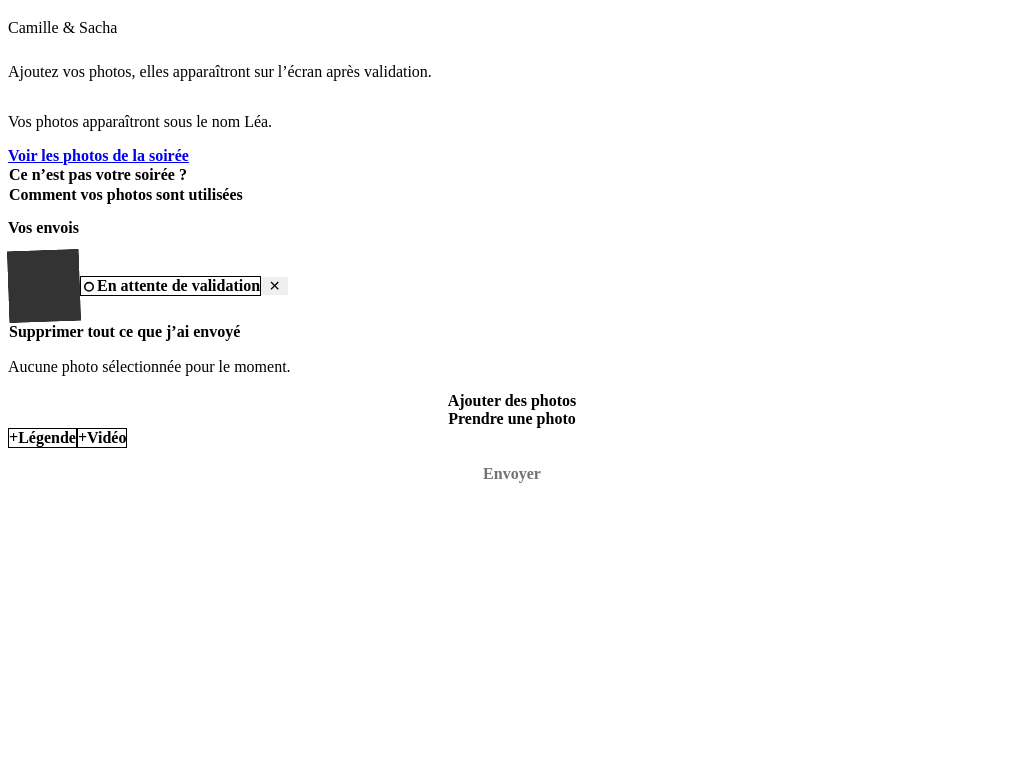
GuestUploadPage › keeps the list when a deletion is refused, and says why
The image size is (1024, 768).
Click the button named "Supprimer la photo 1" at [275, 286], box left=261, top=277, right=288, bottom=295
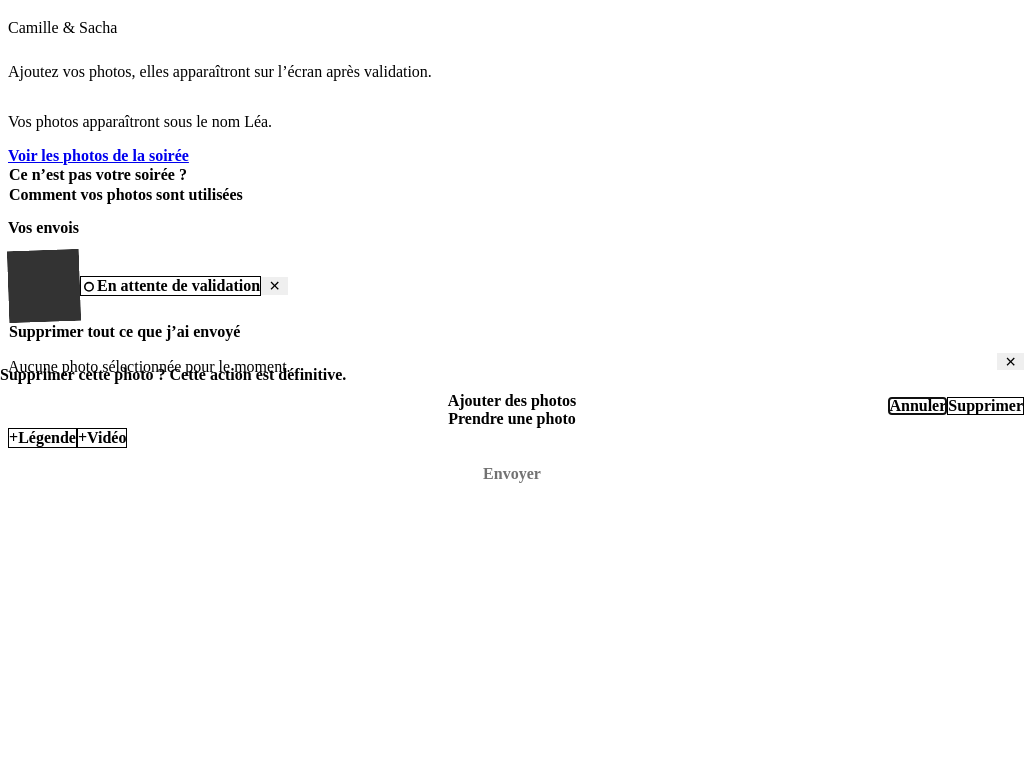
Click the button "Supprimer" at [986, 406], box left=947, top=397, right=1023, bottom=415
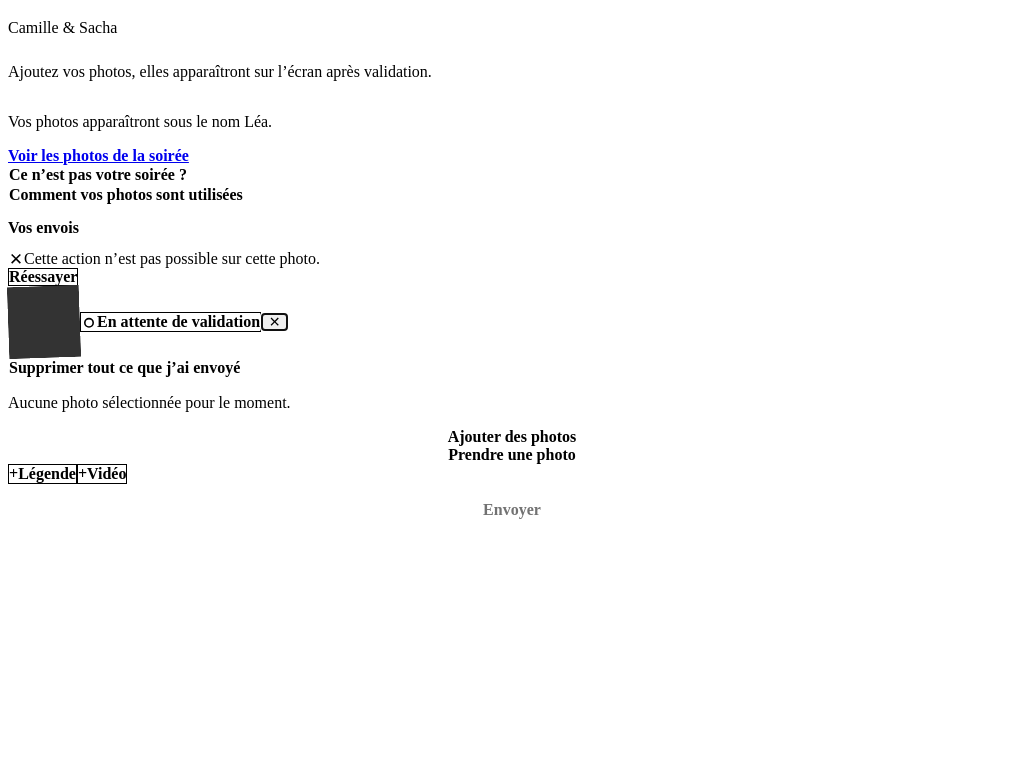
Expected: the text "En attente de validation" is shown, left=80, top=312, right=261, bottom=332
Now the message reads "Cette action n’est pas possible sur cette photo.", box left=24, top=250, right=320, bottom=267
